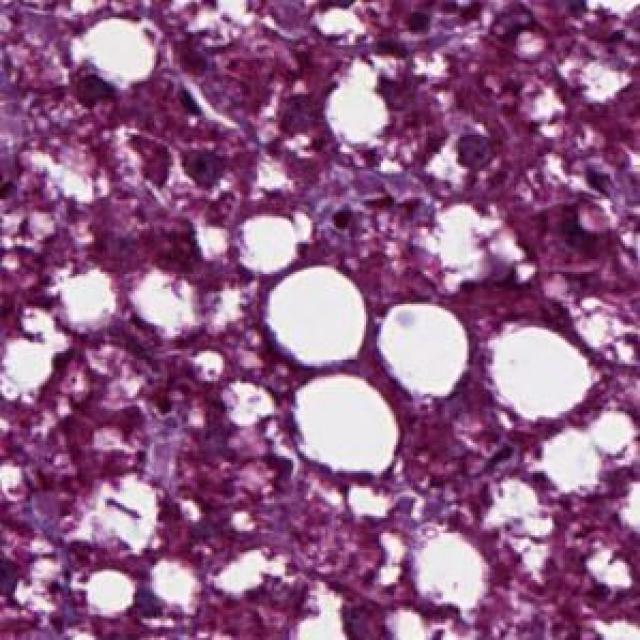steatosis: (261, 255, 377, 368)
